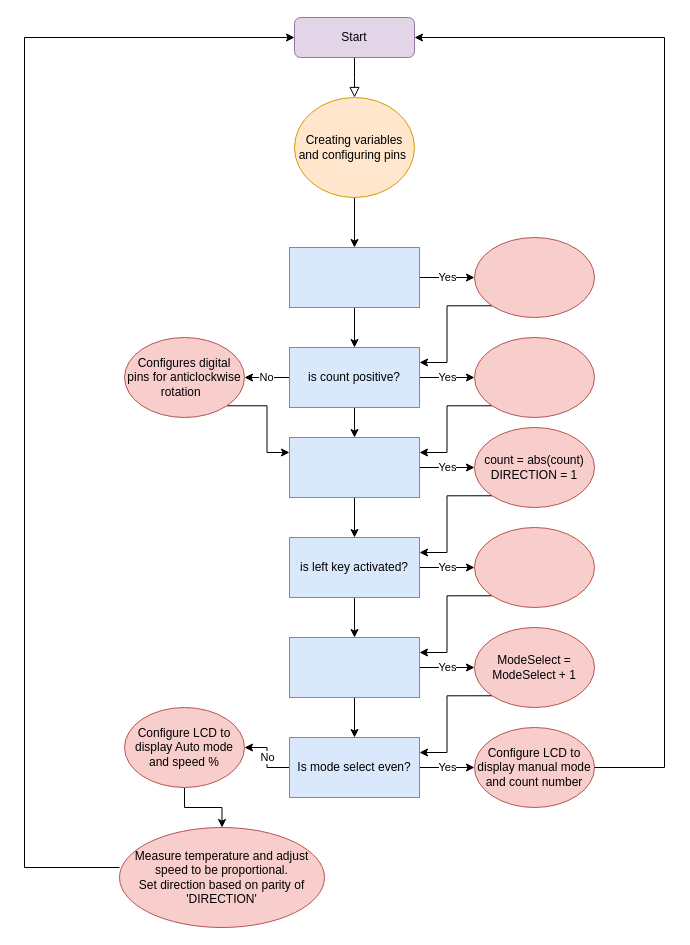
This 690x945 diagram has some shape labels left out. Each missing label, with the centre of its shape:
Configures digital pins for clockwise rotation: [534,377]
count = -abs(count) DIRECTION = -1: [534,567]
count == 255 or -255 respectively: [534,277]
Is count >= 255 or <= -255?: [354,277]
Is right key activated?: [354,467]
is select key activated?: [354,667]
